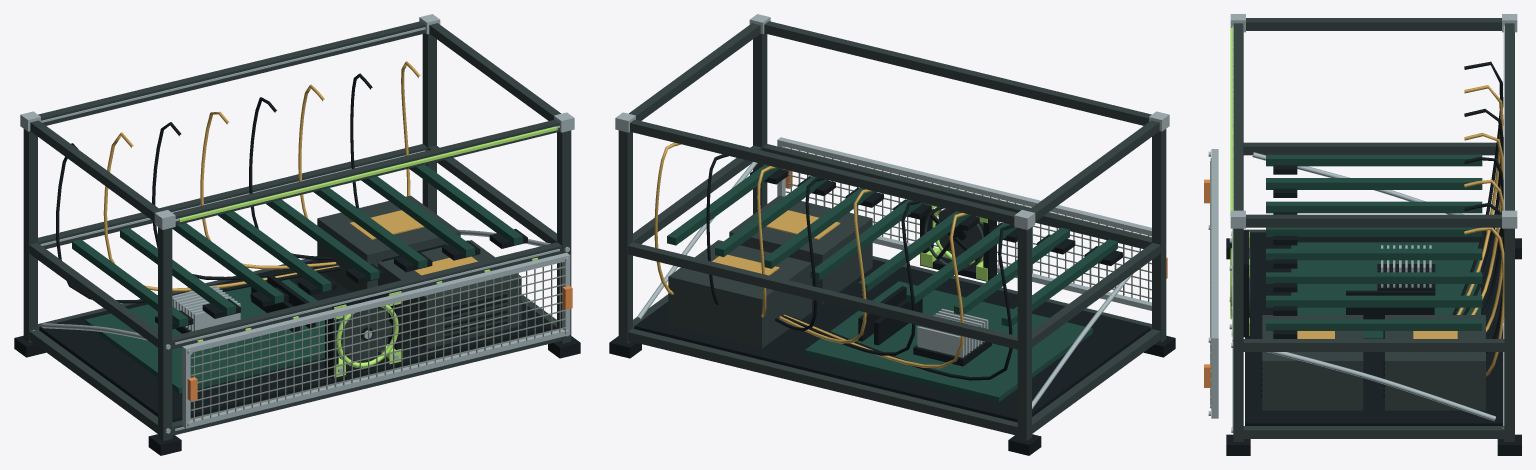
Rendered from rig-runtime-8-mesh-none.glb.
The picture shows the model from 3 angles, left to right: view 1: azimuth 30°, elevation 25°; view 2: azimuth 150°, elevation 25°; view 3: azimuth 270°, elevation 25°; orthographic projection.
Parts seen in each view (by area): view 1: Anodized graphite (×2), Circuit board, Rubber and ABS (×2), Brushed aluminium (×2), Filter fibres, rig-runtime-8-mesh-none, Contacts, Lime accents, slot-cable-1, slot-cable-2, slot-cable-3, slot-cable-4 (+1 smaller); view 2: Anodized graphite (×2), Circuit board, Rubber and ABS (×2), Brushed aluminium (×2), Filter fibres, Contacts, slot-cable-1, slot-cable-2, slot-cable-3, slot-cable-4, slot-cable-5, Lime accents (+3 smaller); view 3: Anodized graphite, Circuit board, Rubber and ABS (×2), Brushed aluminium (×2), slot-cable-1, slot-cable-2, rig-runtime-8-mesh-none, slot-cable-3, Contacts, slot-cable-4, slot-cable-8, slot-cable-5 (+3 smaller).
Boxes of the visible parts, x1,y1,x2,y2 form: Anodized graphite (×2): (23, 21, 571, 440); Circuit board: (72, 164, 522, 393); Rubber and ABS (×2): (14, 229, 580, 455); Brushed aluminium (×2): (20, 14, 574, 433); Filter fibres: (190, 263, 565, 421); rig-runtime-8-mesh-none: (178, 126, 557, 222); Contacts: (349, 210, 477, 275); Lime accents: (334, 291, 401, 377); slot-cable-1: (55, 143, 340, 303); slot-cable-2: (103, 132, 339, 291); slot-cable-3: (152, 122, 338, 280); slot-cable-4: (200, 111, 336, 269); Anodized graphite (×2): (618, 21, 1166, 440); Circuit board: (667, 164, 1117, 402); Rubber and ABS (×2): (609, 164, 1175, 455); Brushed aluminium (×2): (615, 14, 1169, 409); Filter fibres: (785, 147, 1151, 301); Contacts: (712, 210, 840, 275); slot-cable-1: (784, 224, 1014, 380); slot-cable-2: (783, 213, 967, 368); slot-cable-3: (782, 201, 919, 355); slot-cable-4: (779, 189, 871, 343); slot-cable-5: (775, 177, 824, 331); Lime accents: (920, 203, 987, 281); Anodized graphite: (1233, 18, 1514, 441); Circuit board: (1266, 154, 1482, 338); Rubber and ABS (×2): (1226, 165, 1521, 455); Brushed aluminium (×2): (1211, 14, 1517, 432); slot-cable-1: (1452, 61, 1503, 314); slot-cable-2: (1457, 85, 1503, 314); rig-runtime-8-mesh-none: (1230, 28, 1233, 215); slot-cable-3: (1463, 109, 1503, 314); Contacts: (1297, 331, 1457, 338); slot-cable-4: (1464, 133, 1503, 314); slot-cable-8: (1464, 227, 1504, 376); slot-cable-5: (1464, 157, 1503, 314).
Bounding box in the file's own units: 6.06 × 3.24 × 3.94.
